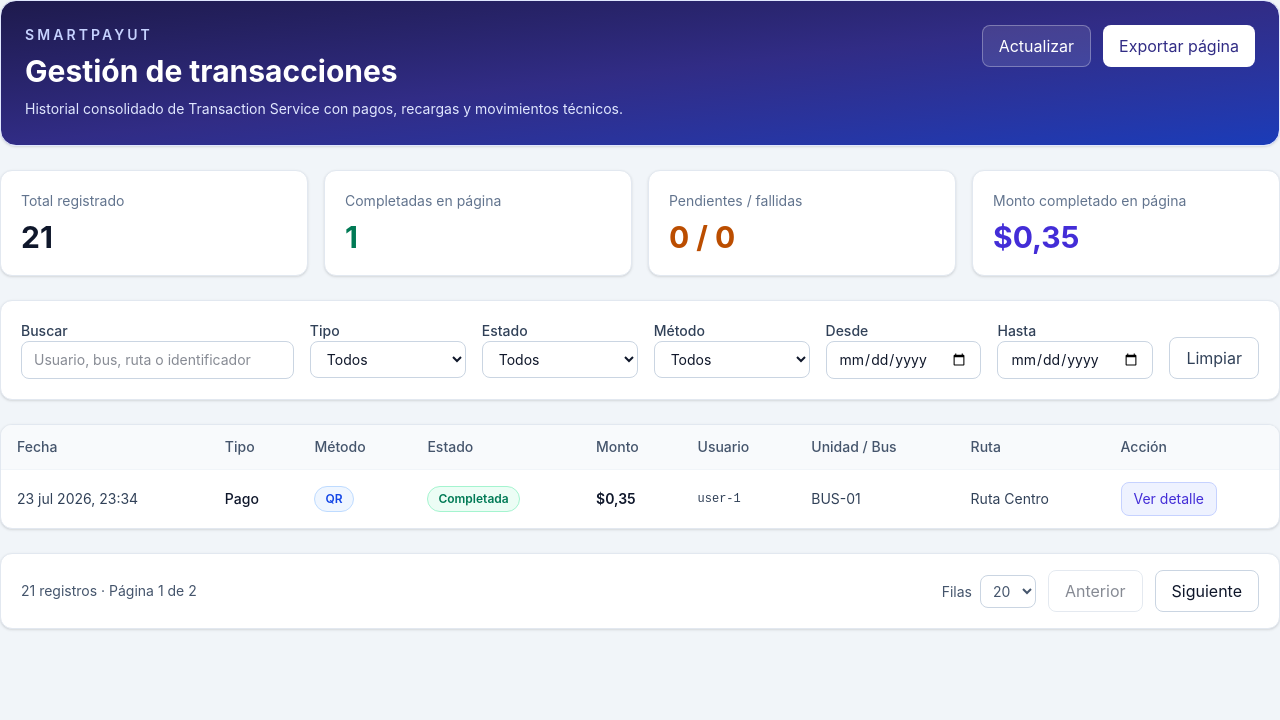
Test: TransactionsPage › uses backend pagination for previous and next
Expected: the button "Anterior" is disabled, x1=1048 y1=570 x2=1142 y2=612
Step 1. Click the button "Siguiente" → coordinates (1207, 591), box x1=1154 y1=570 x2=1259 y2=612
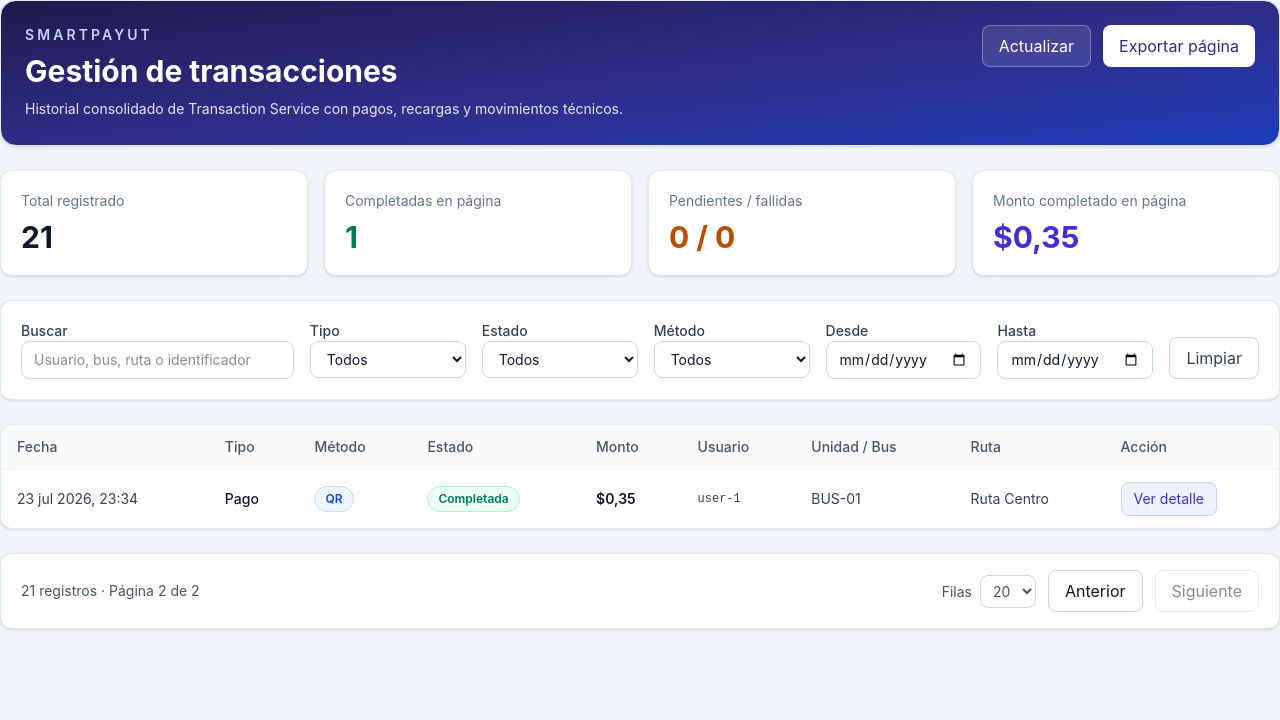
Now the button "Siguiente" is disabled, box x1=1154 y1=570 x2=1259 y2=612
Now the button "Anterior" is enabled, box x1=1048 y1=570 x2=1142 y2=612
